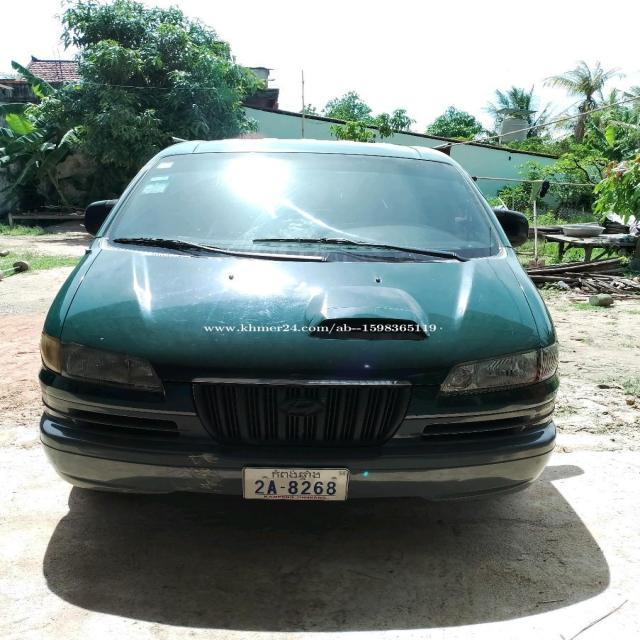Kampong_Chhnang: (271, 470, 320, 480)
